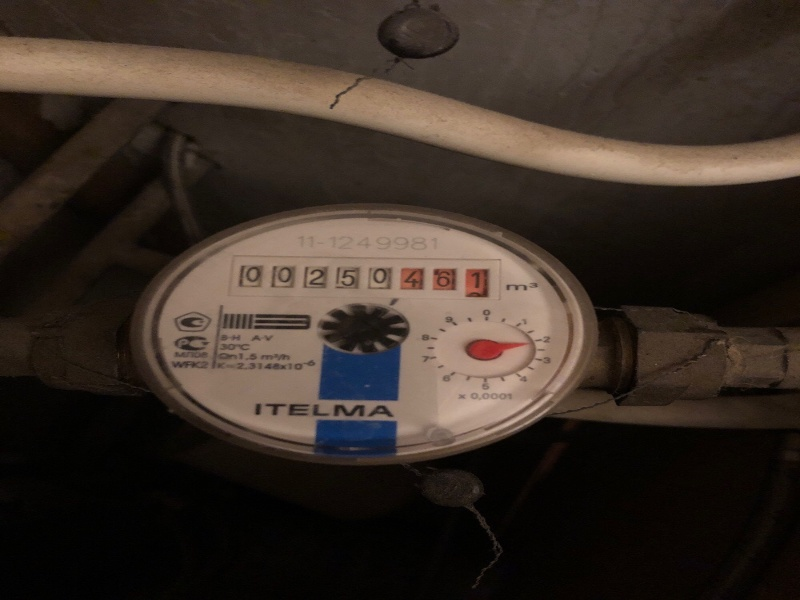dial: (232, 258, 502, 300)
